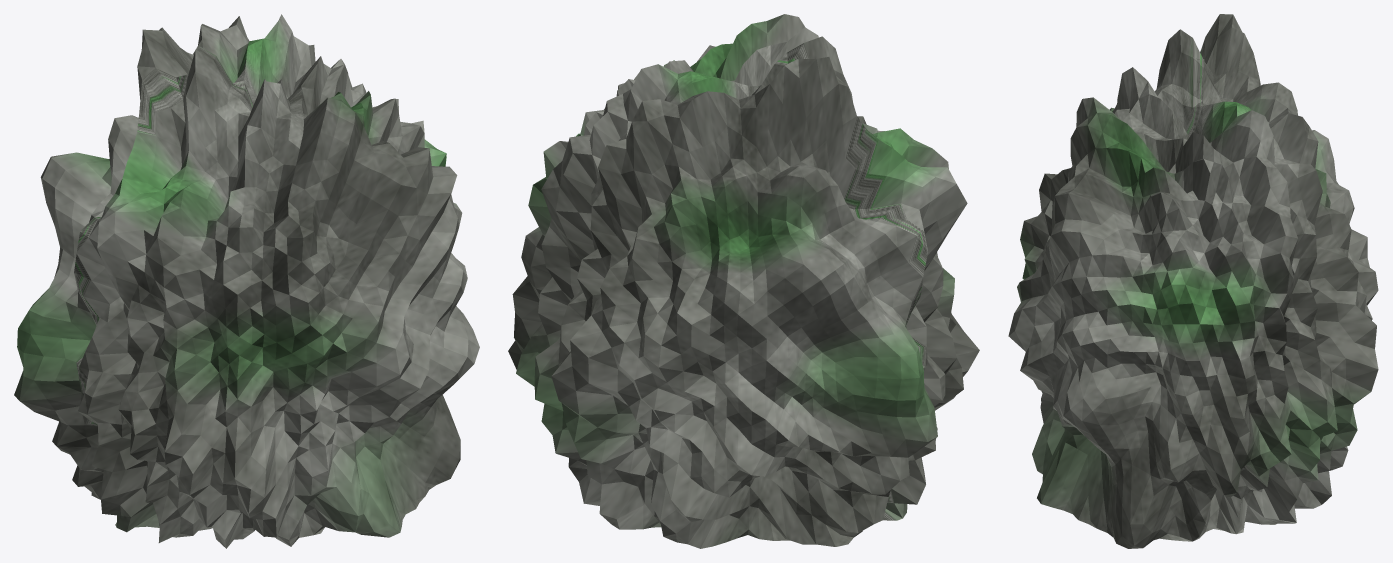
Rendered from weathered-standing-stone.glb.
The picture shows the model from 3 angles, left to right: view 1: azimuth 30°, elevation 25°; view 2: azimuth 150°, elevation 25°; view 3: azimuth 270°, elevation 25°; orthographic projection. The views are drawn at different scales.
Parts seen in each view (by area): view 1: world; view 2: world; view 3: world.
Boxes of the visible parts, x1=… form: world: x1=14, y1=14, x2=479, y2=548; world: x1=508, y1=14, x2=979, y2=548; world: x1=1008, y1=14, x2=1378, y2=548.
Bounding box in the file's own units: 2.45 × 2.53 × 2.01.
1 material, 1 textured.
